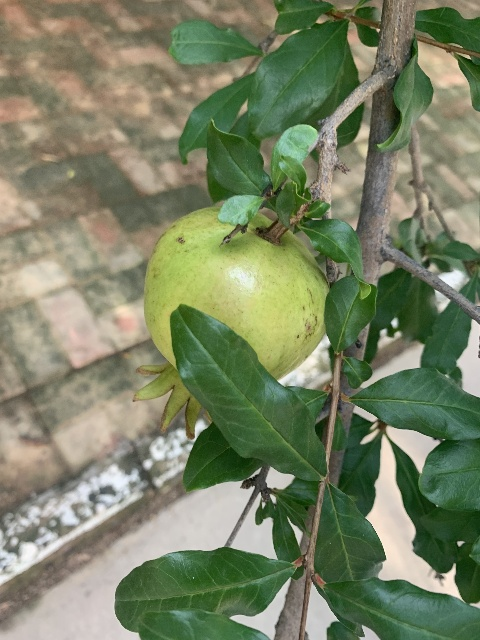mid-growth: (132, 205, 328, 439)
